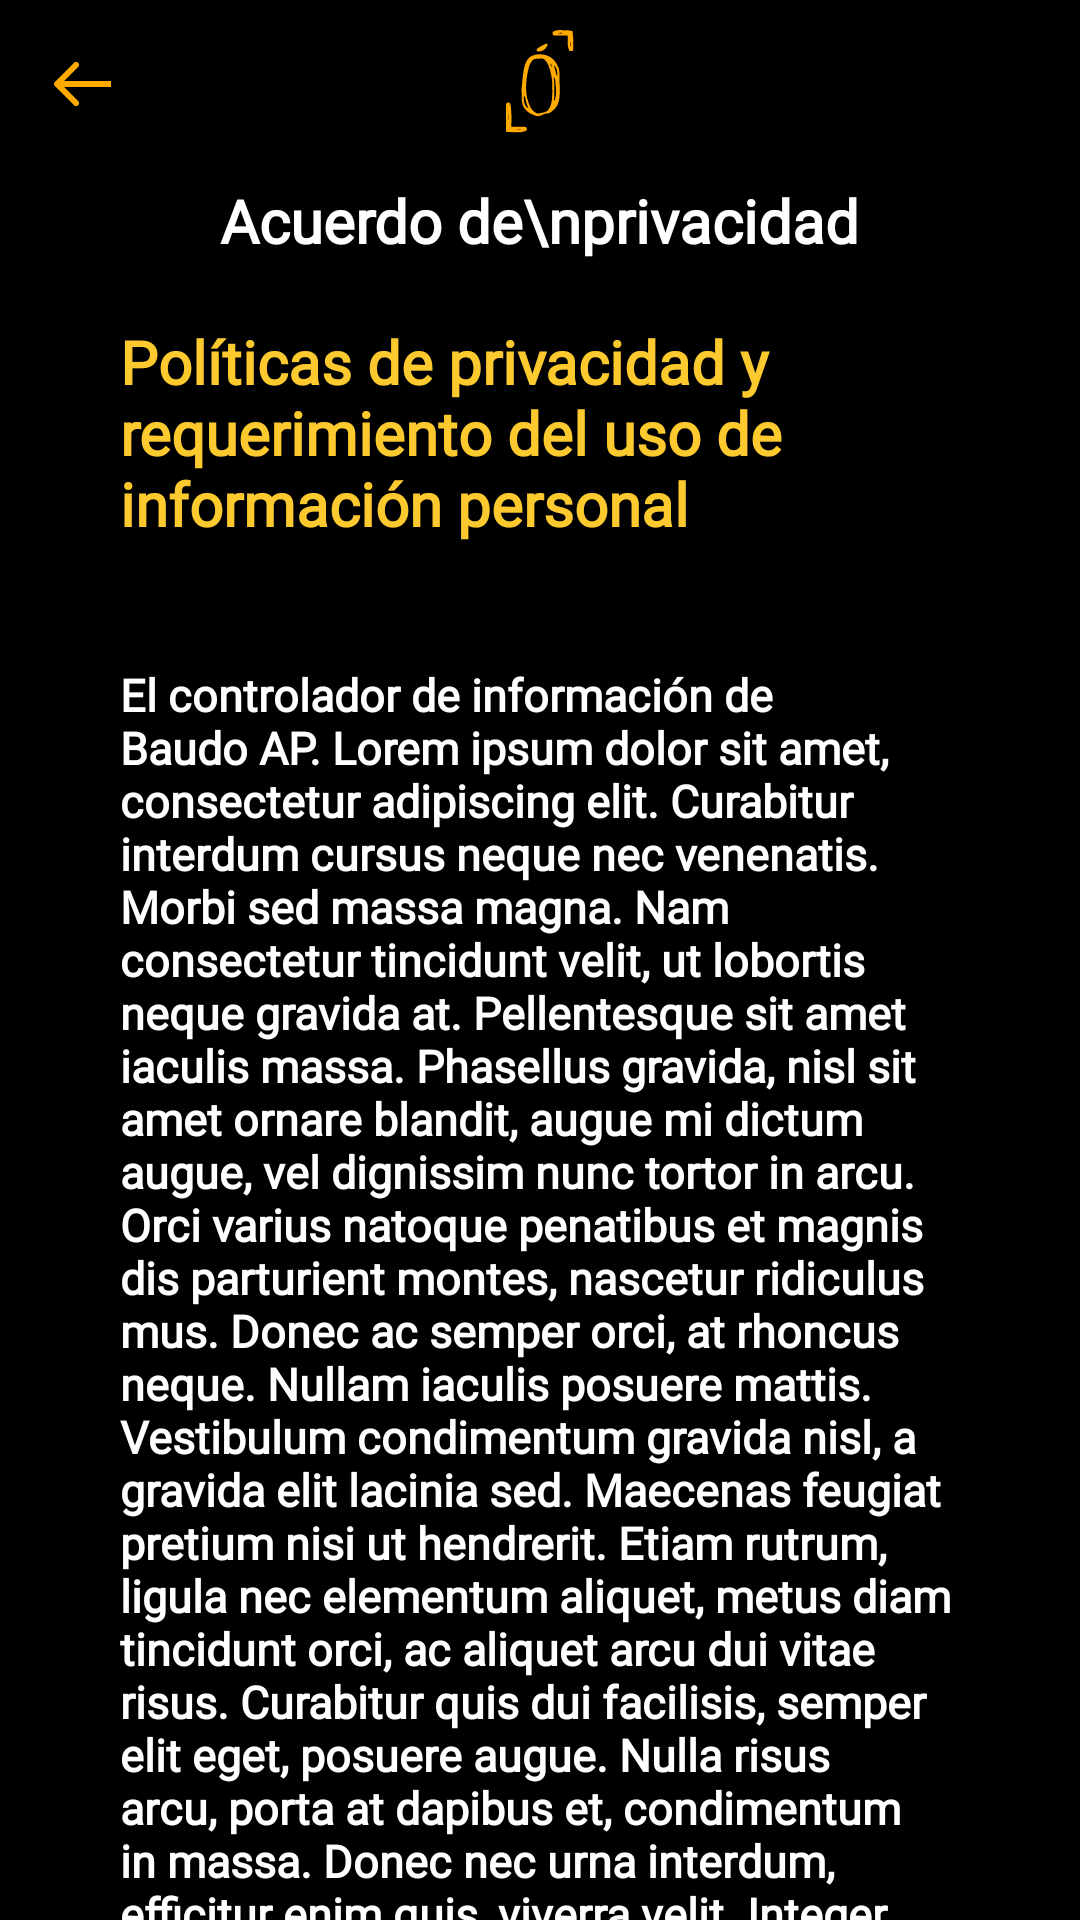

Icon click points for this 1080px x 1920px phone screenshot, format point (x, y):
back: point (82, 84)
